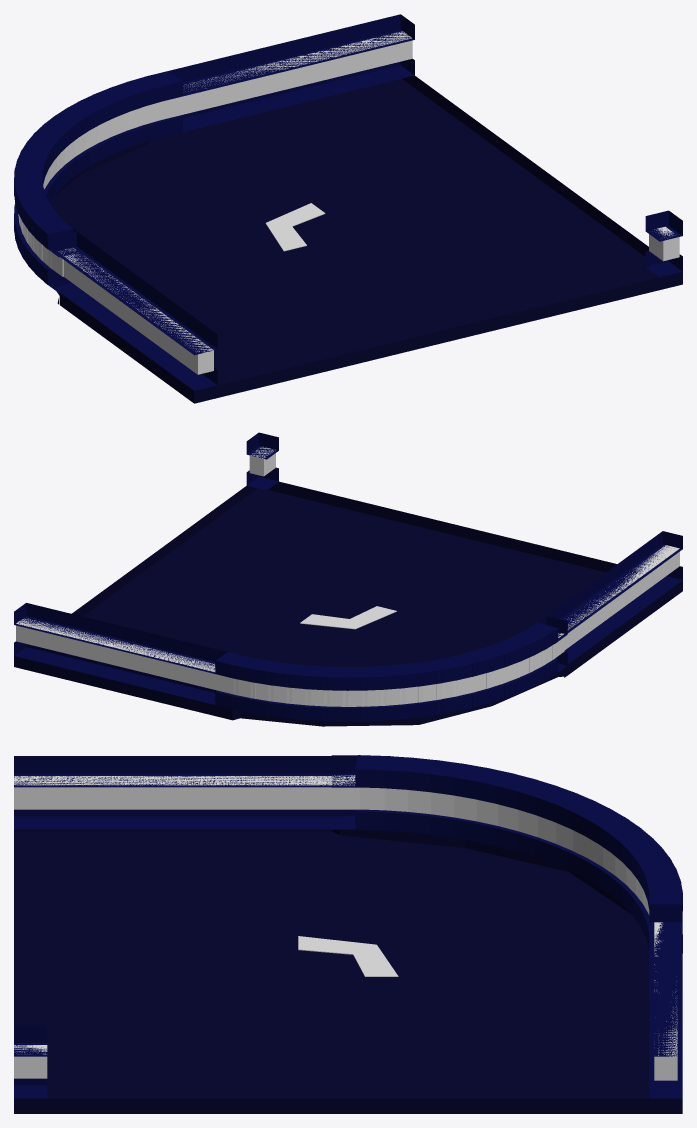
Rendered from road_rotate.fbx.
3 renders of one model, top to bottom at view 1: azimuth 30°, elevation 25°; view 2: azimuth 150°, elevation 25°; view 3: azimuth 270°, elevation 25°, orthographic. The views are drawn at different scales.
Parts seen in each view (by area): view 1: Плоскость; view 2: Плоскость; view 3: Плоскость.
Boxes of the visible parts, box(x1,y1,x2,y2) form: Плоскость: box(14, 14, 682, 403); Плоскость: box(14, 432, 682, 726); Плоскость: box(14, 755, 682, 1113).
Bounding box in the file's own units: 802 × 99.63 × 800.
